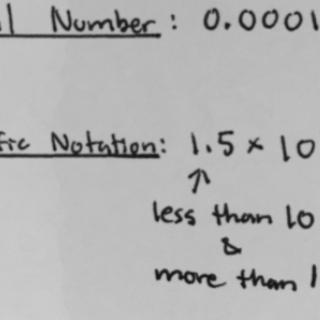.: (204, 142, 212, 154)
0: (295, 135, 316, 163)
1: (187, 127, 202, 156), (278, 133, 291, 164)
5: (215, 127, 237, 159)
